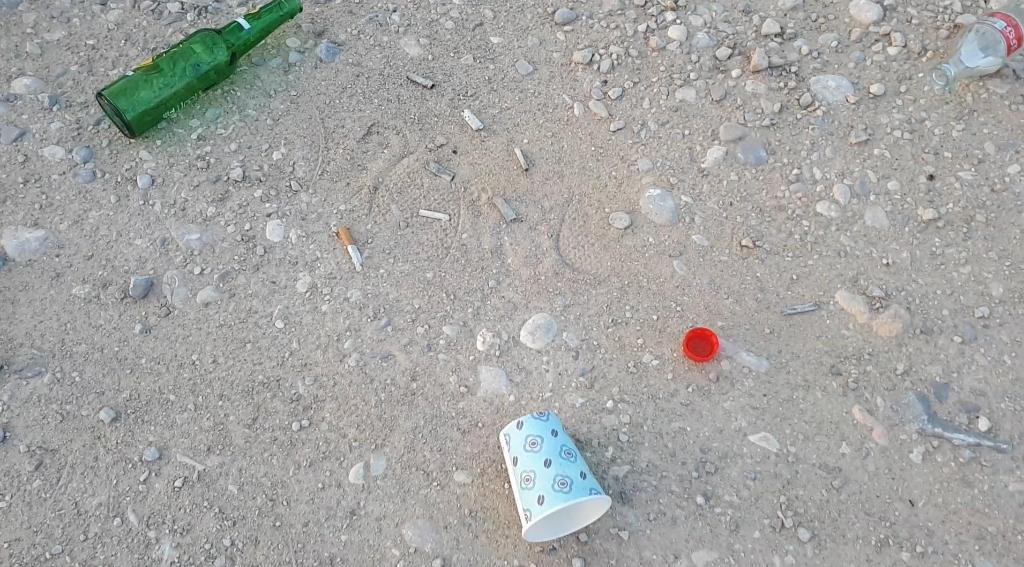garbage: (64, 0, 311, 151), (96, 0, 303, 139), (930, 0, 1023, 87)
